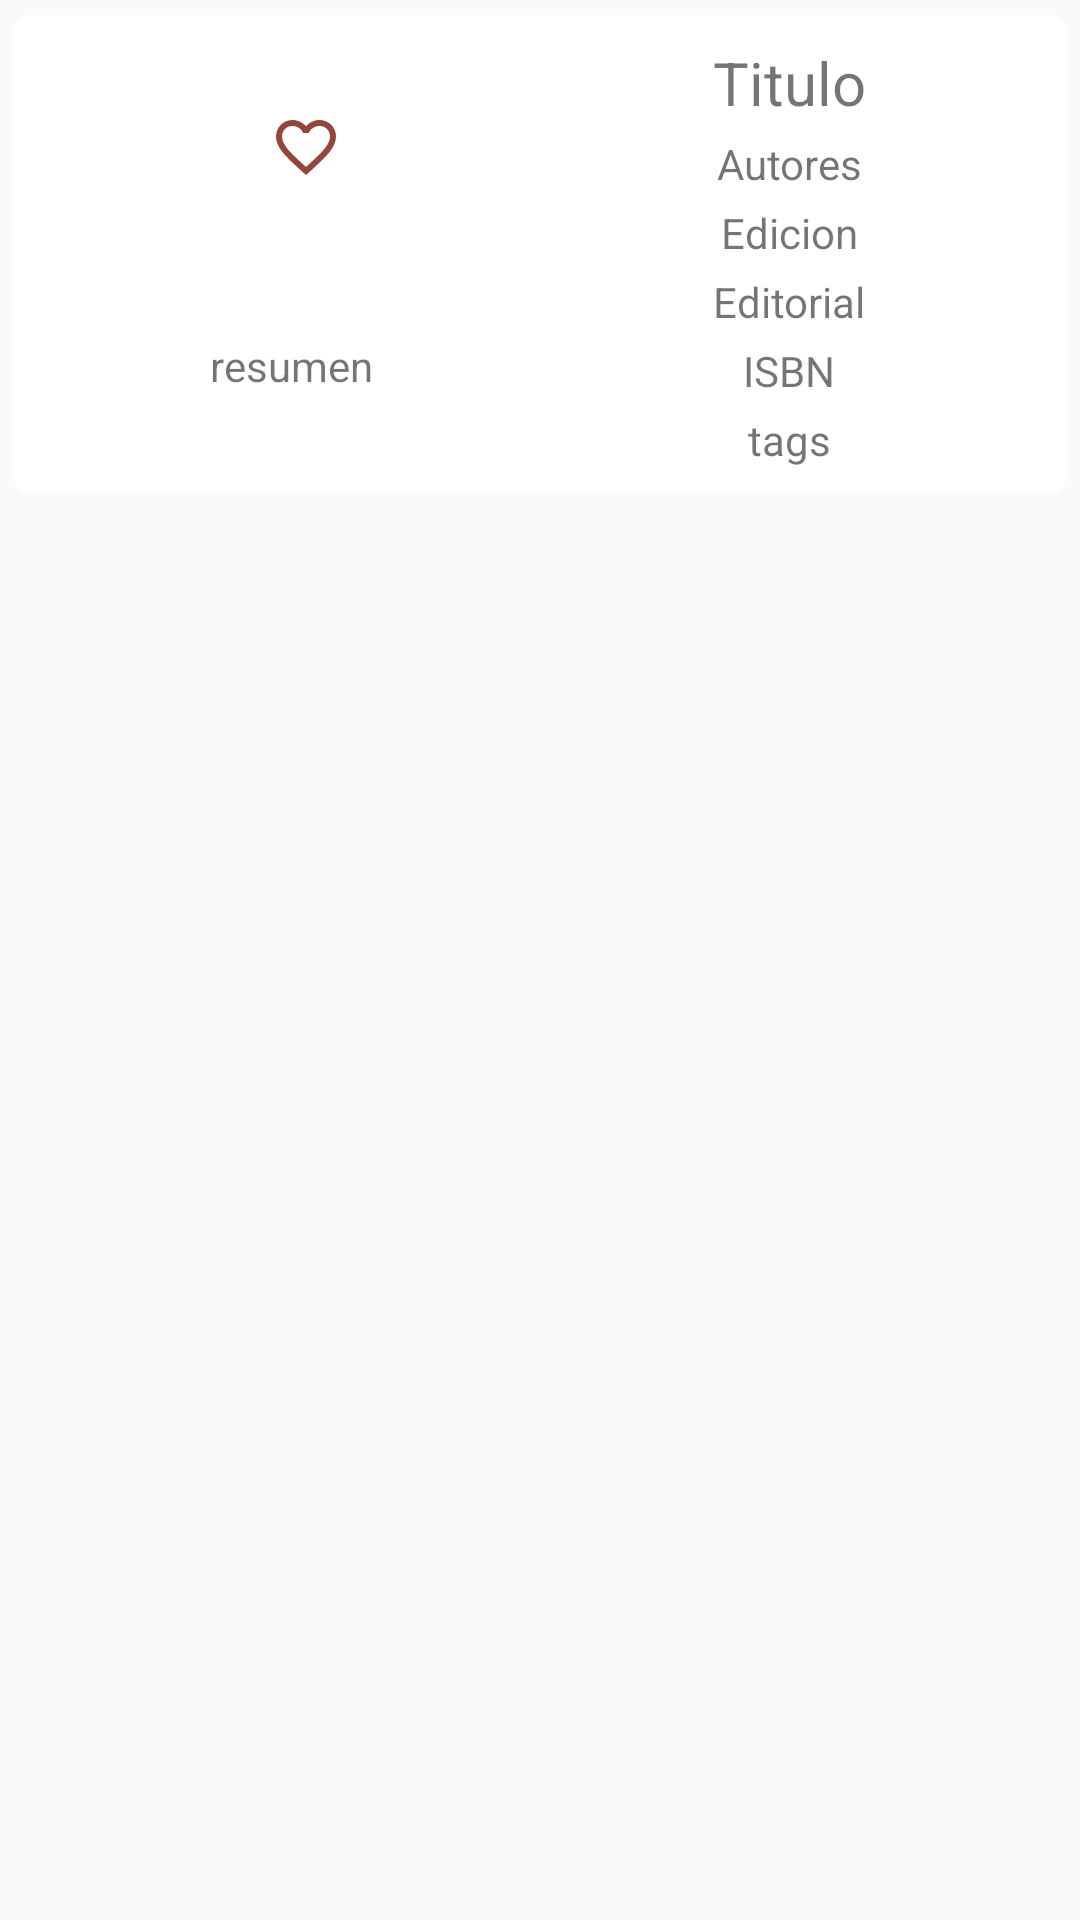

Icons on this 1080w x 1920h Android screen, each with the point to tap as [x,y]:
favorite border: [306,147]
